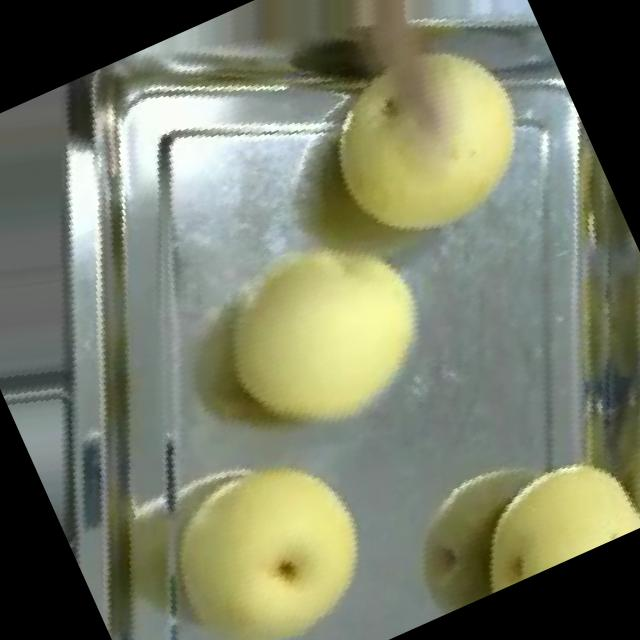Fruit: (154, 166, 488, 492), (260, 0, 587, 289), (89, 381, 439, 640), (358, 393, 640, 629), (208, 0, 532, 147)
